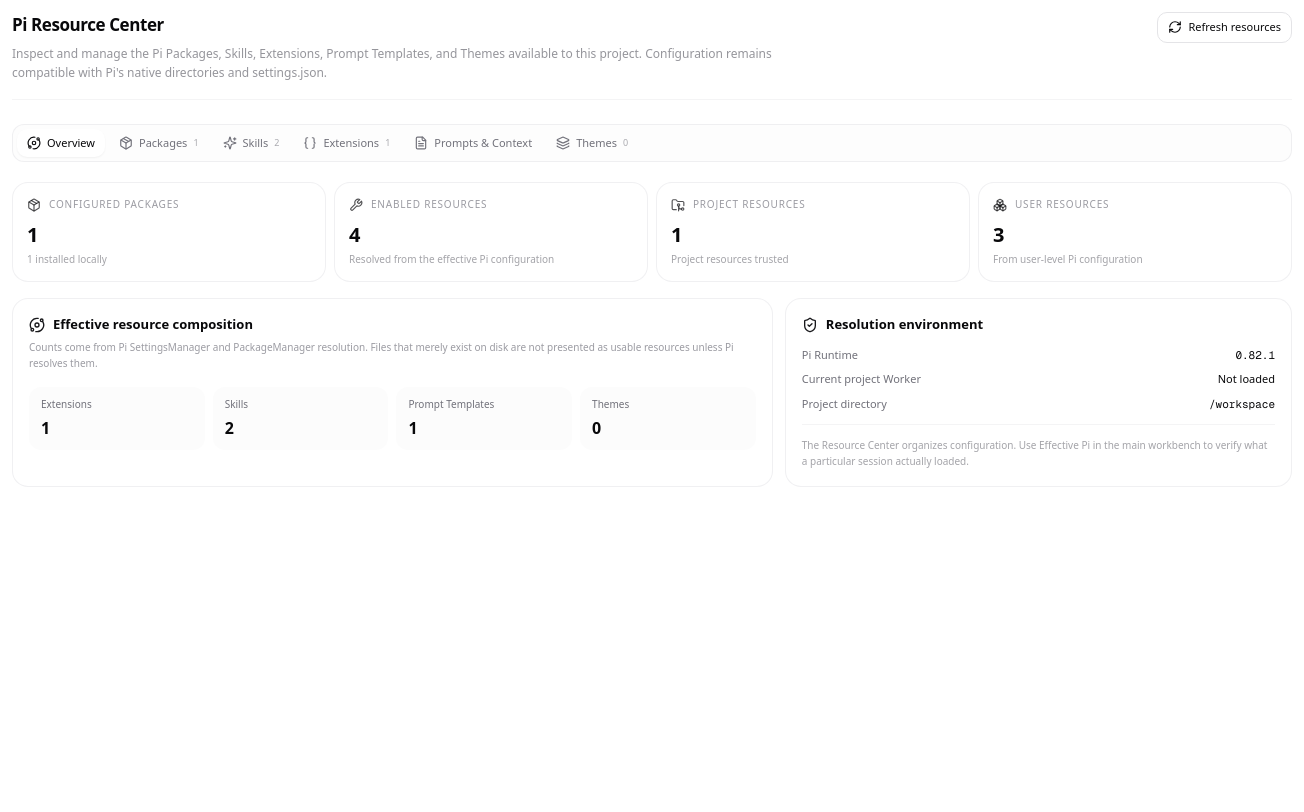
Test: PiResourceCenterPage › shows Pi-native resource composition and configured package details
Check: the heading "Effective resource composition" is shown, box [53,315,253,334]
Check: the text "0.82.1" is shown, box [1235,346,1275,363]
Click the button "Packages 1" at (159, 143), box [109,128,208,157]
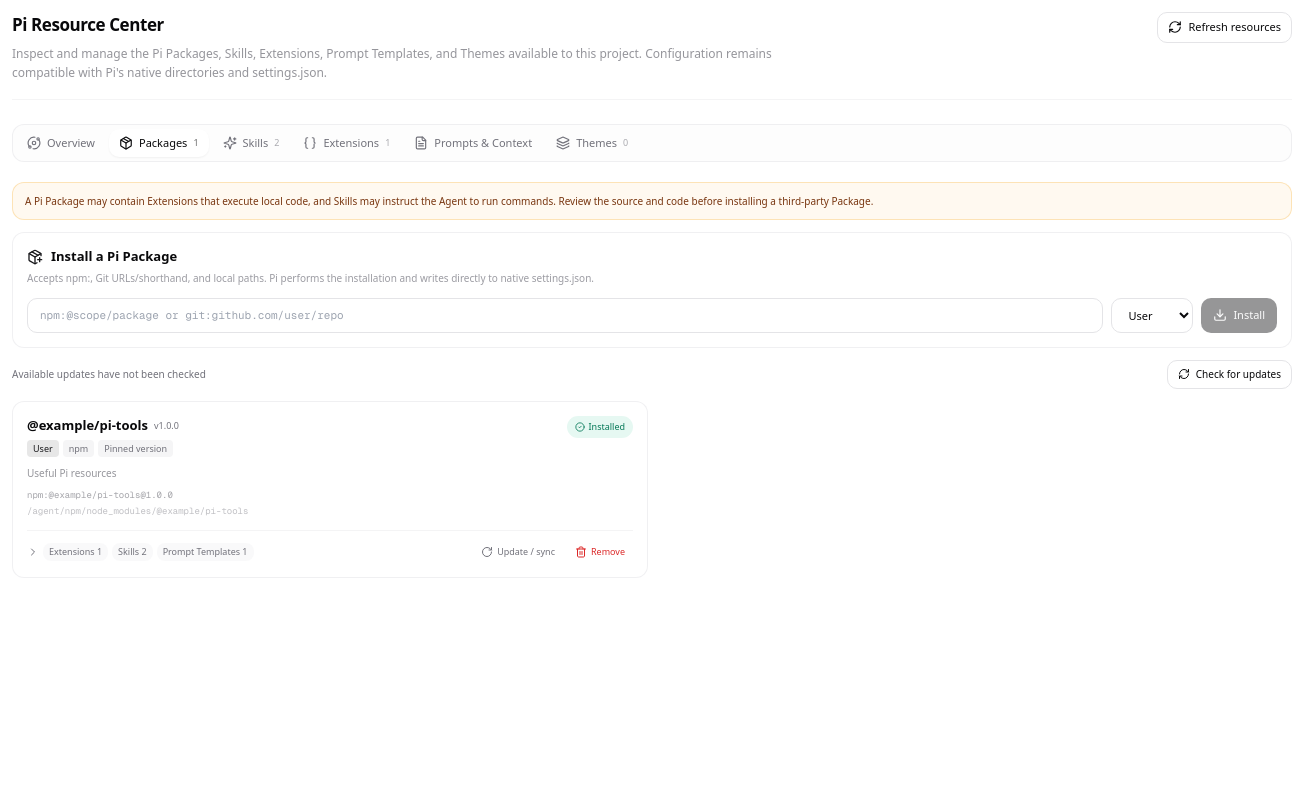
Check: the text "Installed" is shown, box [566,416,633,437]
Check: the heading "@example/pi-tools" is shown, box [27,416,148,435]
Check: the text "Pinned version" is shown, box [98,439,173,457]
